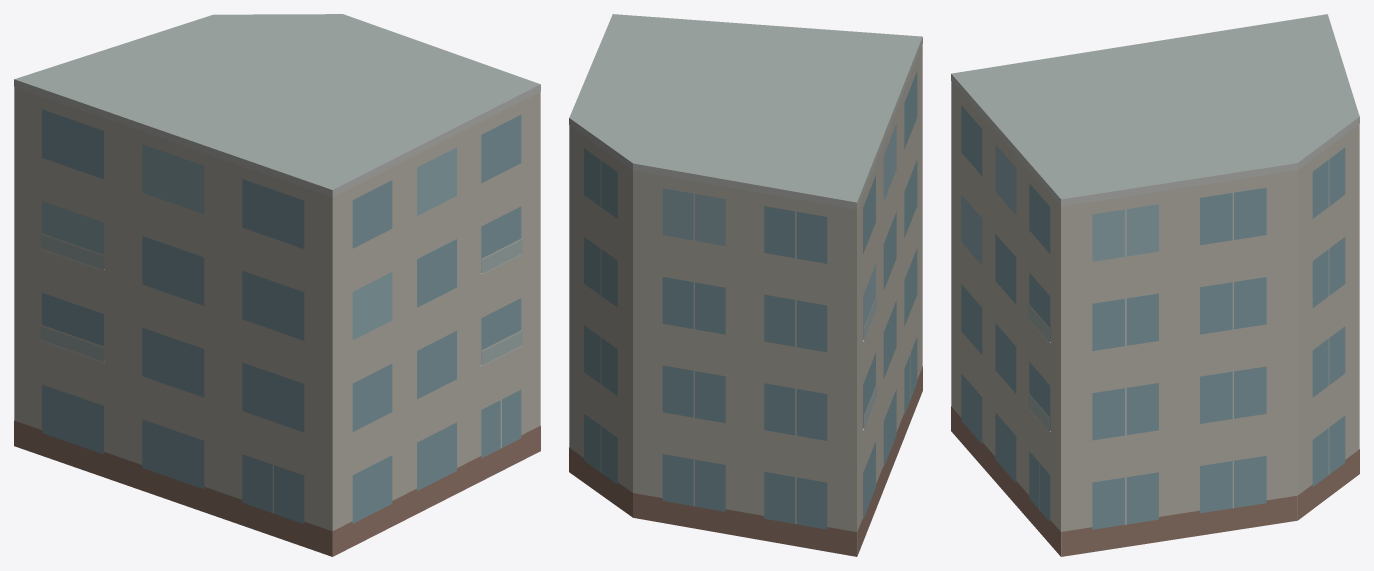
Rendered from survey-upis-32524087.glb.
The picture shows the model from 3 angles, left to right: view 1: azimuth 30°, elevation 25°; view 2: azimuth 150°, elevation 25°; view 3: azimuth 270°, elevation 25°; orthographic projection. The views are drawn at different scales.
Visible parts, largest first — view 1: survey-upis-32524087.tmp; view 2: survey-upis-32524087.tmp; view 3: survey-upis-32524087.tmp.
Part boxes in pixels (bbox=[...]): survey-upis-32524087.tmp: bbox=[14, 14, 540, 556]; survey-upis-32524087.tmp: bbox=[569, 14, 922, 556]; survey-upis-32524087.tmp: bbox=[951, 14, 1359, 556].
Size of the model in its own units: 13.47 by 12.1 by 12.54.
